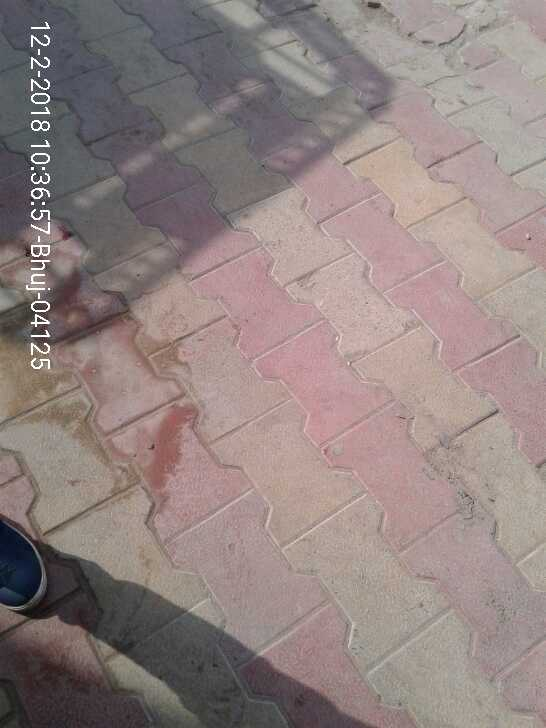reject: (292, 389, 356, 475)
